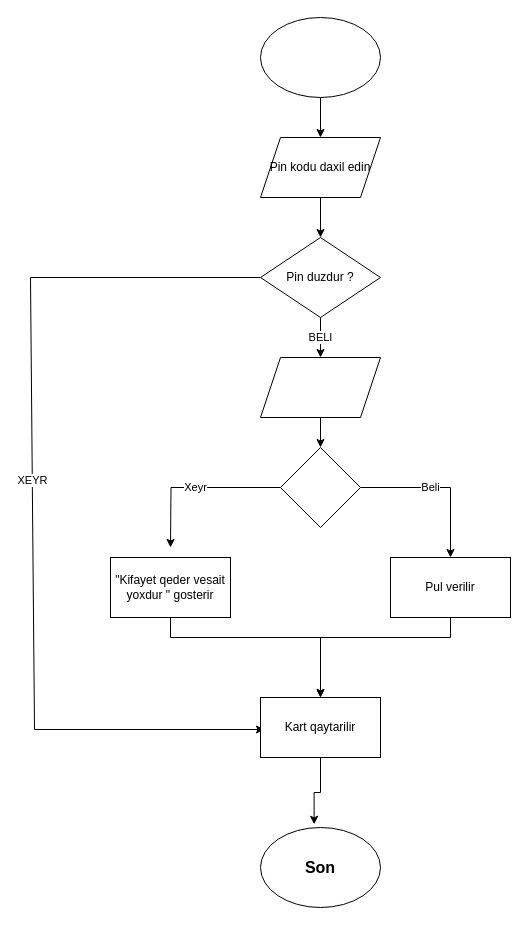
The diagram is 528 pixels wide and 925 high, and some of its shapes have lost their labels. Each missing label, with the box of its shape:
Balans catir ?: (280, 446, 360, 528)
Mebleq daxil edilir: (260, 356, 380, 418)
start: (260, 16, 380, 98)
